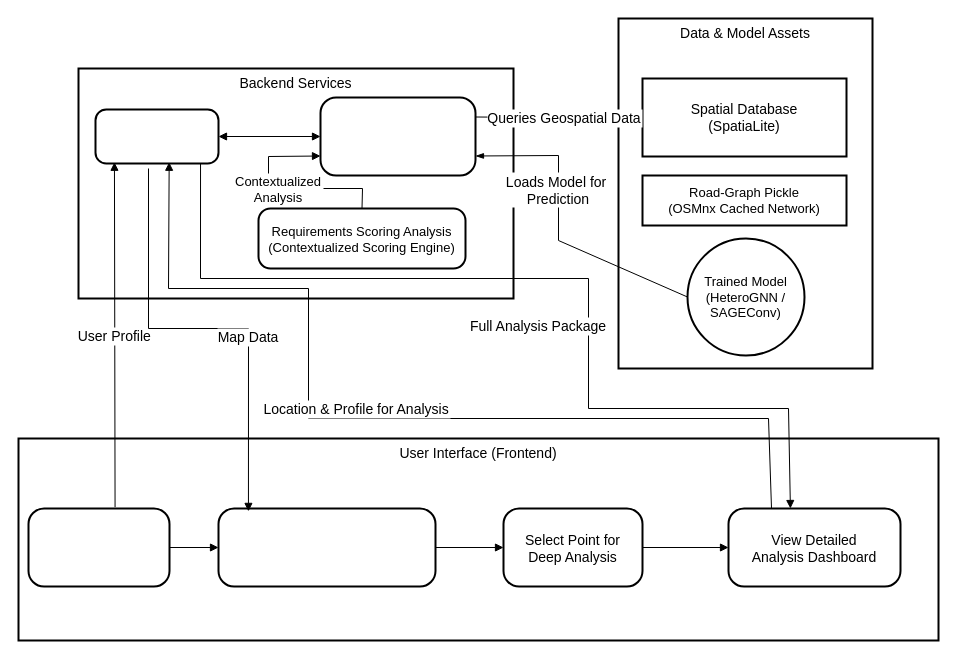
Image size: 956x658. Some labels were removed from this diagram. The centre of each missing label's shape, as x and y in pixels:
"Analysis & Prediction Engine" goes at point (397, 136).
"API Gateway" goes at point (156, 136).
"Define Profile & Requirements" goes at point (98, 547).
"Explore Personalized Map" goes at point (326, 547).
